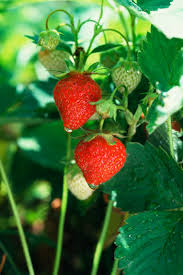ripe: (74, 124, 127, 190), (51, 70, 101, 133)
unripe: (34, 47, 78, 76), (111, 58, 142, 95), (37, 28, 59, 49)
